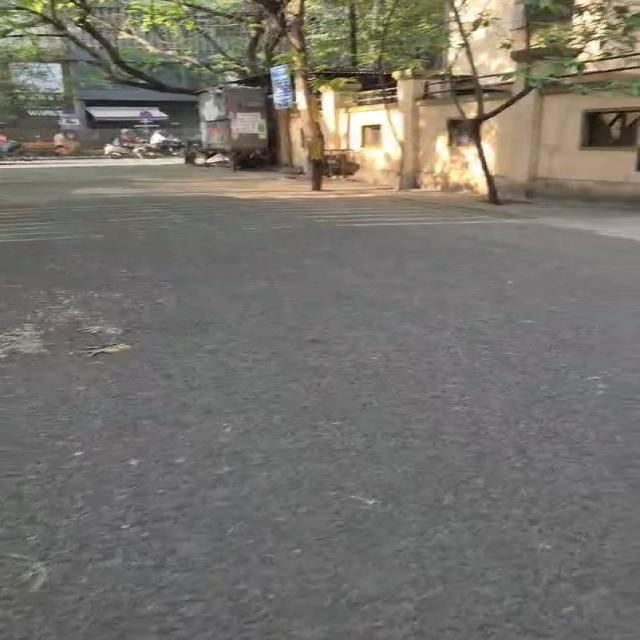auto: (23, 141, 56, 154)
barrier: (136, 140, 187, 158), (104, 142, 157, 158), (0, 141, 30, 160), (104, 142, 136, 158)
bike: (0, 141, 30, 159)
